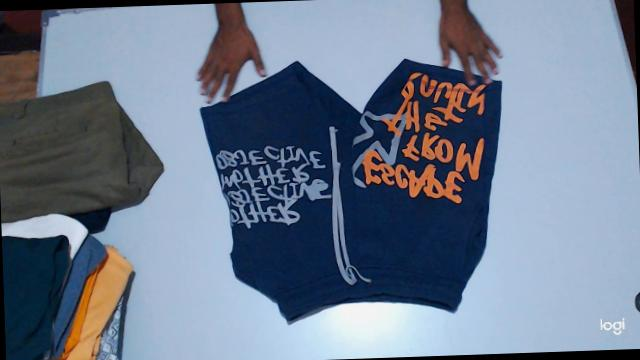new-garment: (200, 59, 501, 322)
